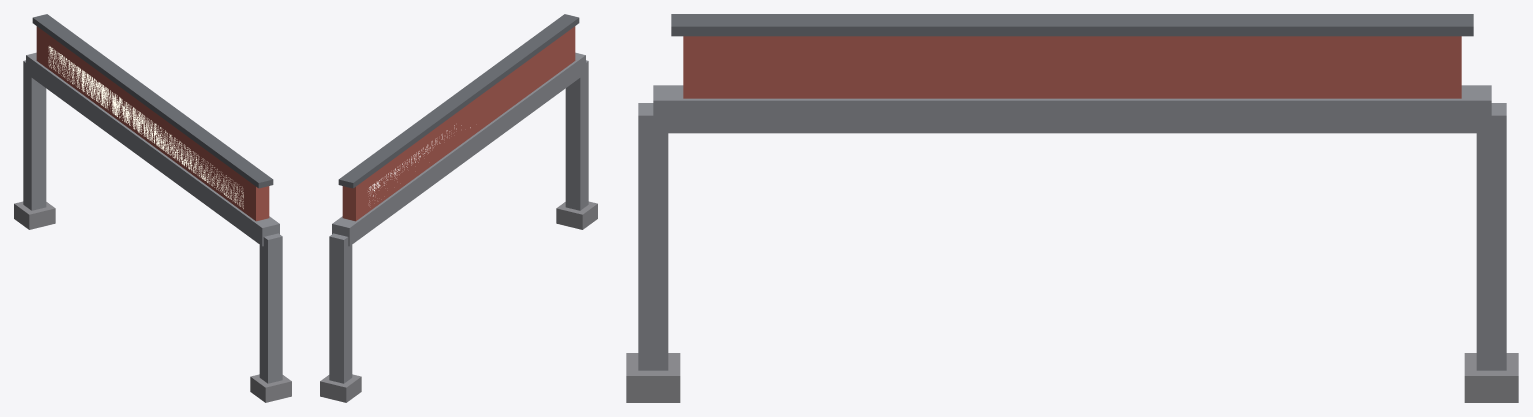
File: prop_arcade_gate.glb
3 renders of one model, left to right at view 1: azimuth 30°, elevation 25°; view 2: azimuth 150°, elevation 25°; view 3: azimuth 270°, elevation 25°, orthographic. The views are drawn at different scales.
Parts seen in each view (by area): view 1: arcade_gate; view 2: arcade_gate; view 3: arcade_gate.
Boxes of the visible parts, x1=… form: arcade_gate: x1=14, y1=14, x2=291, y2=402; arcade_gate: x1=320, y1=14, x2=597, y2=402; arcade_gate: x1=626, y1=14, x2=1518, y2=402.
Size of the model in its own units: 0.9 by 6.84 by 14.9.
